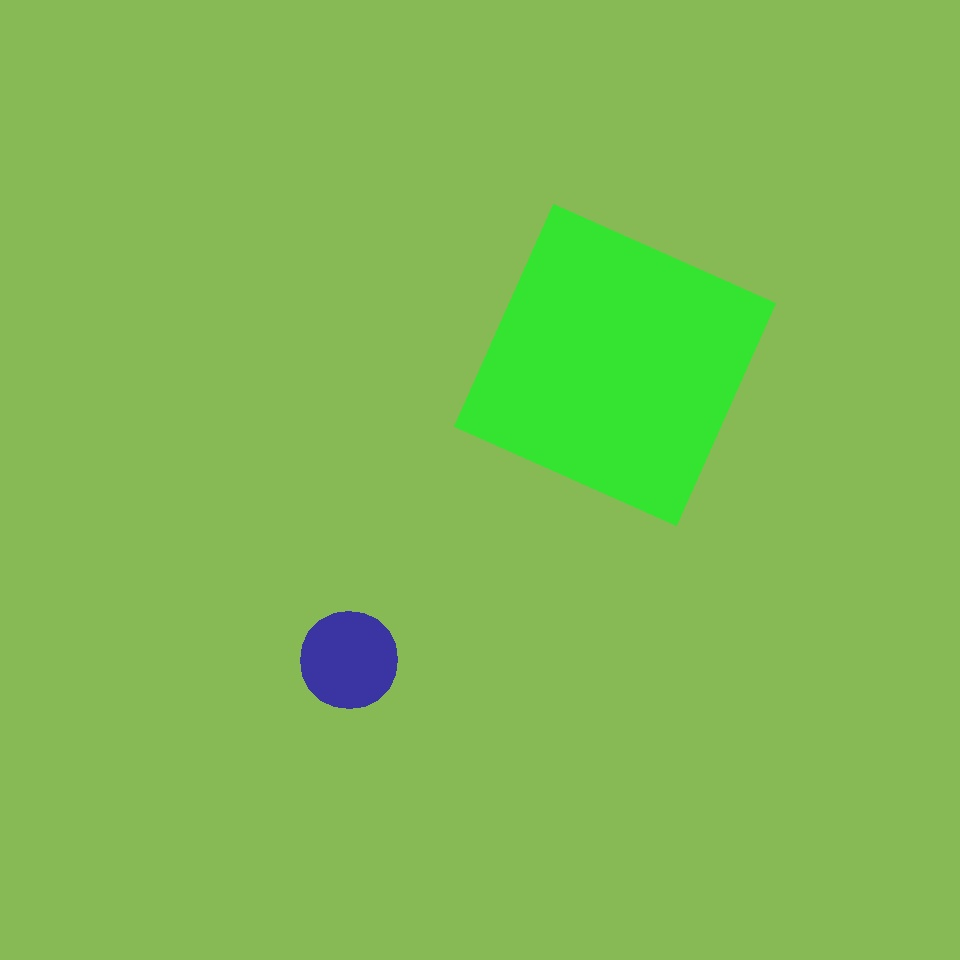circle: (349, 324, 526, 516)
square: (454, 204, 776, 526), (164, 293, 354, 483), (729, 345, 911, 527)
triangle: (456, 492, 612, 648), (300, 612, 398, 708)
